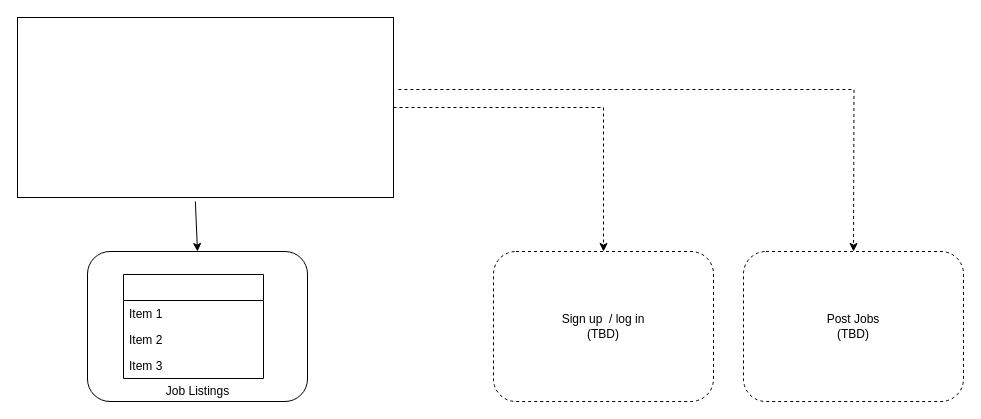
The diagram is 981 pixels wide and 419 high, and some of its shapes have lost their labels. Here are the shapes that lost their labels. From the top down, the box of each, then its label:
(16, 16, 394, 198): homepage/Main App
(122, 274, 264, 378): List
